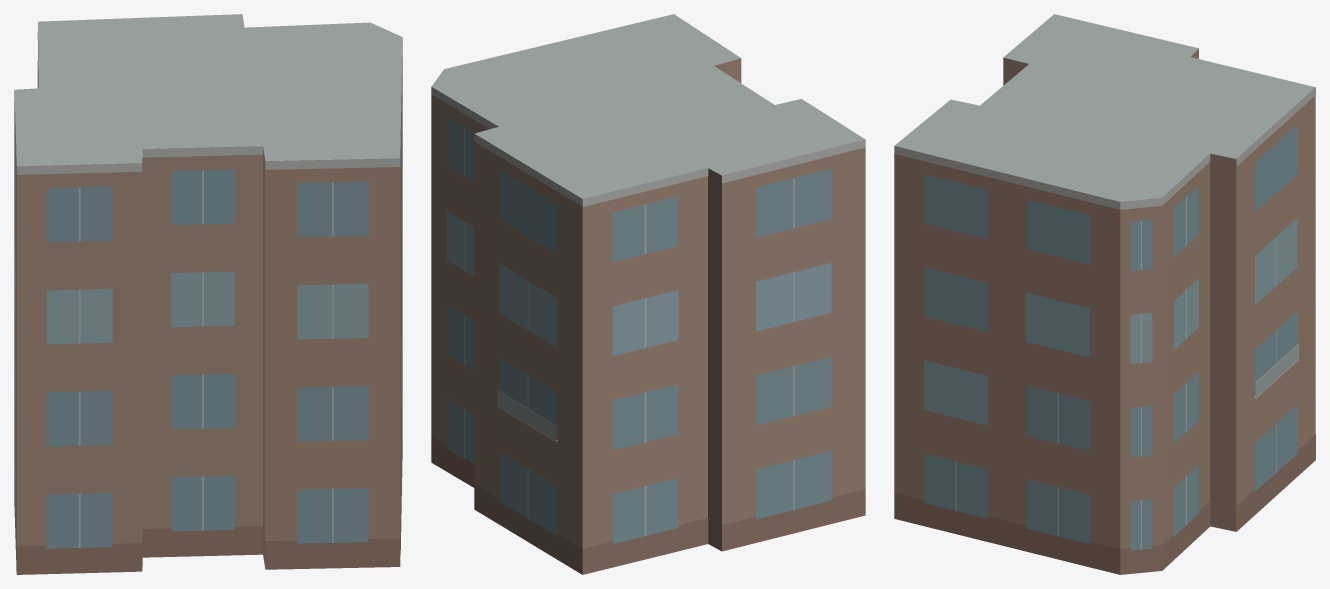
File: survey-upis-32772569.glb
The picture shows the model from 3 angles, left to right: view 1: azimuth 30°, elevation 25°; view 2: azimuth 150°, elevation 25°; view 3: azimuth 270°, elevation 25°; orthographic projection. The views are drawn at different scales.
Parts seen in each view (by area): view 1: survey-upis-32772569.tmp; view 2: survey-upis-32772569.tmp; view 3: survey-upis-32772569.tmp.
Part boxes in pixels (x1,y1,x2,y2): survey-upis-32772569.tmp: (14,14,402,574); survey-upis-32772569.tmp: (431,14,865,574); survey-upis-32772569.tmp: (894,14,1315,574).
Size of the model in its own units: 12.55 by 11.6 by 11.89.
